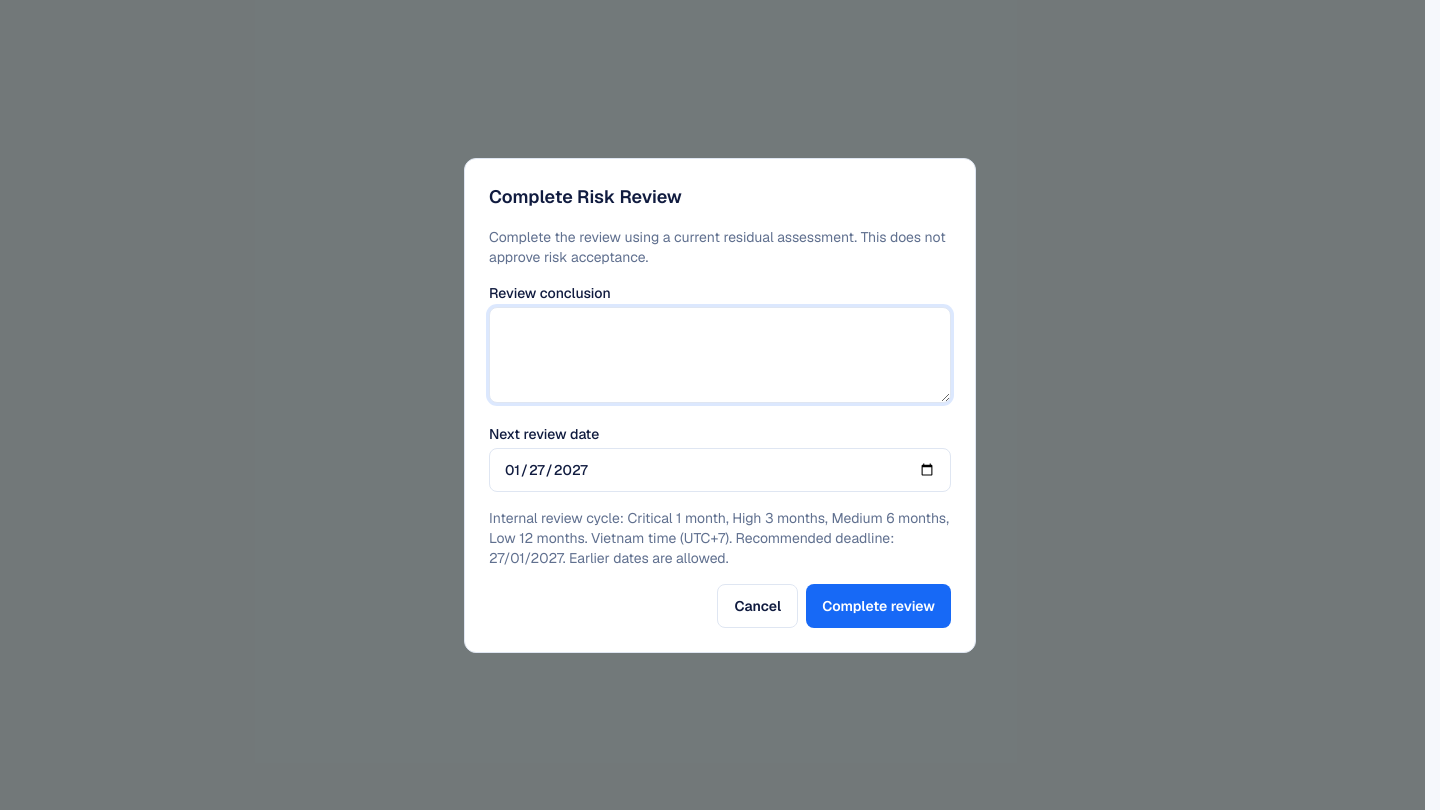
Test case: keeps entered conclusion on a stale-data conflict
Type "Reviewed current controls and exposure." into the text box labelled "Review conclusion".
click(720, 354); type("Reviewed current controls and exposure.")  # box left=489, top=306, right=951, bottom=402
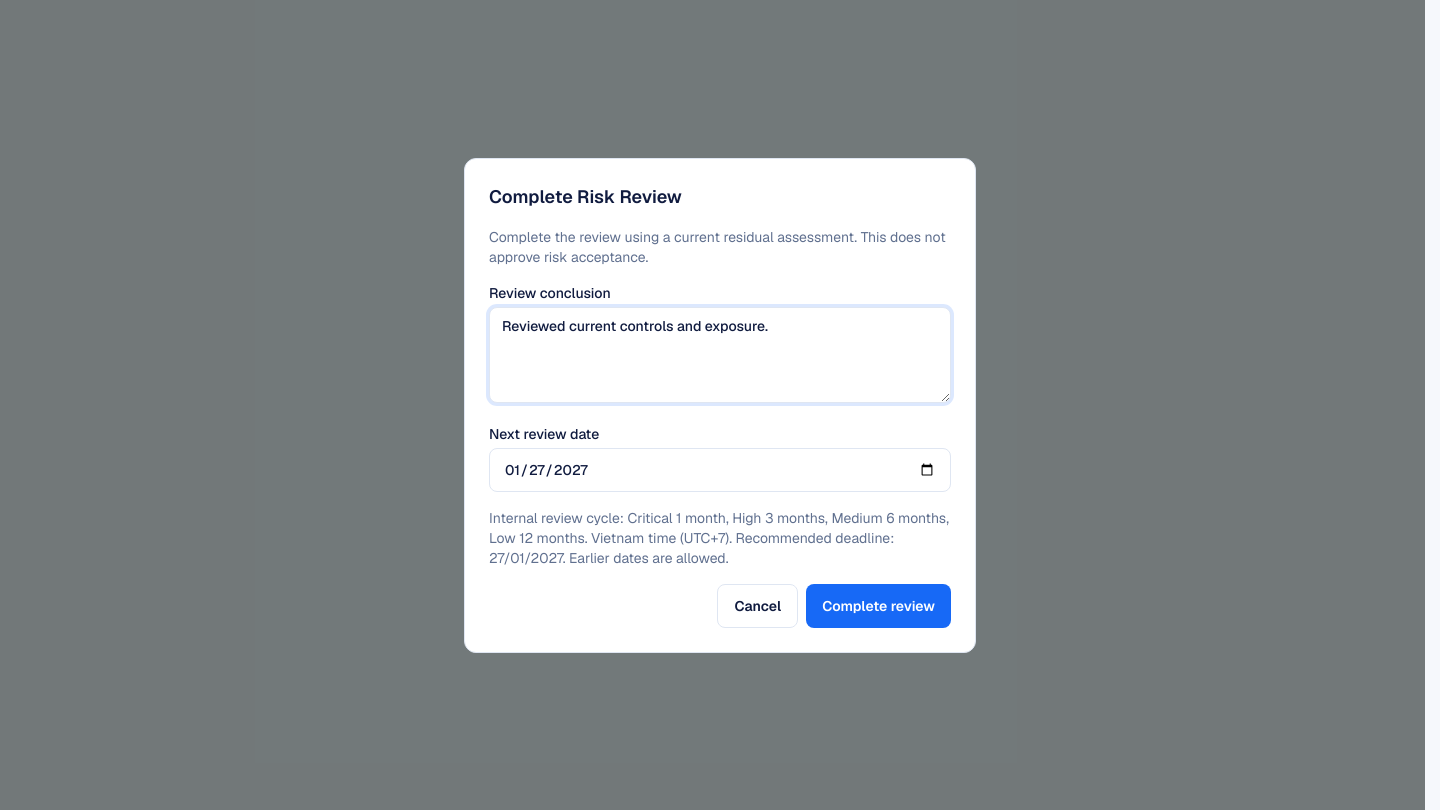
Click the button "Complete review".
click(879, 606)  # box left=806, top=584, right=951, bottom=628
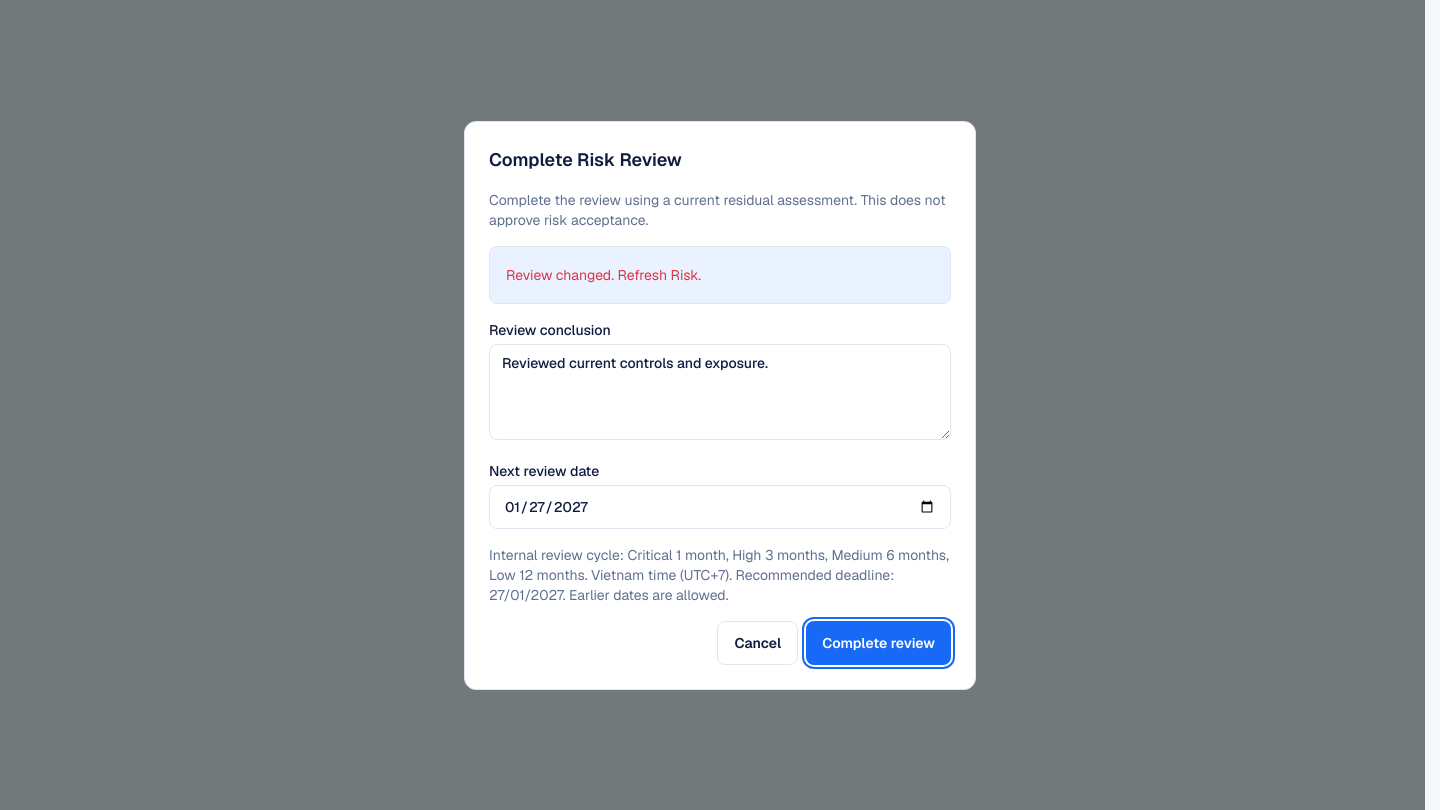
Expected: the text "Review changed. Refresh Risk." is shown, left=489, top=246, right=951, bottom=304
